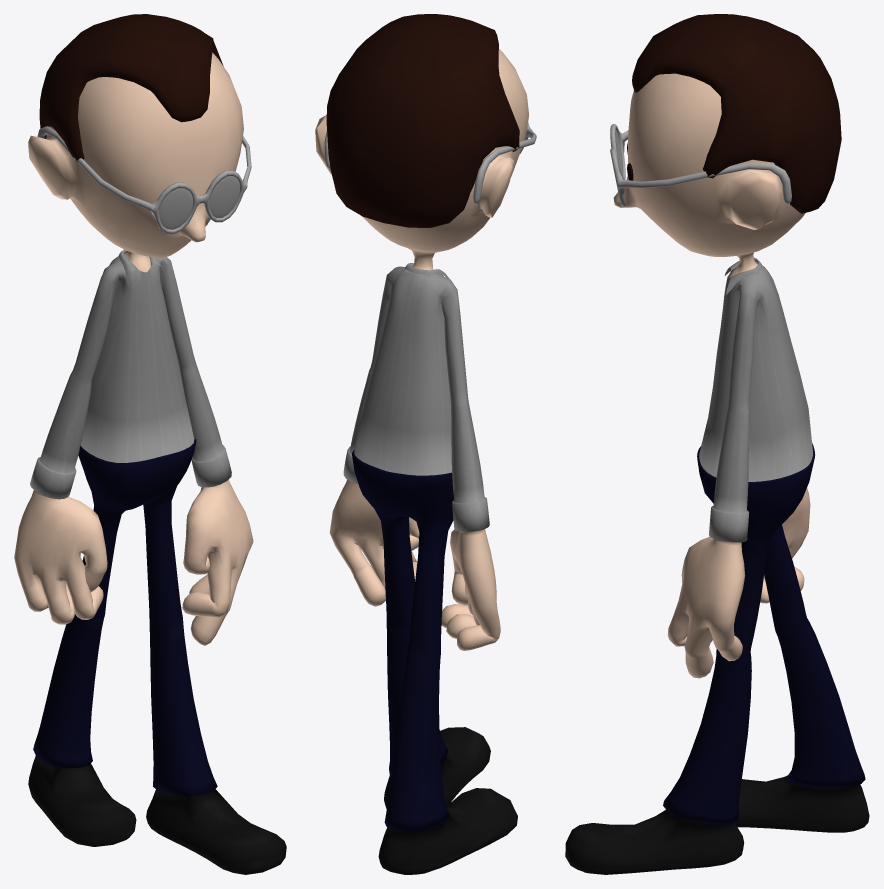
The model's file is Animation_Cartoon_Starter_000100.obj.
The picture shows the model from 3 angles, left to right: view 1: azimuth 30°, elevation 25°; view 2: azimuth 150°, elevation 25°; view 3: azimuth 270°, elevation 25°; orthographic projection. The views are drawn at different scales.
Parts seen in each view (by area): view 1: bm_09; view 2: bm_09; view 3: bm_09.
Part boxes in pixels (<box>): bm_09: <box>14,14,286,874</box>; bm_09: <box>315,14,536,874</box>; bm_09: <box>565,14,869,874</box>.
Size of the model in its own units: 0.3938 by 1.51 by 0.5072.
Materials: 3 (1 with a texture image).
